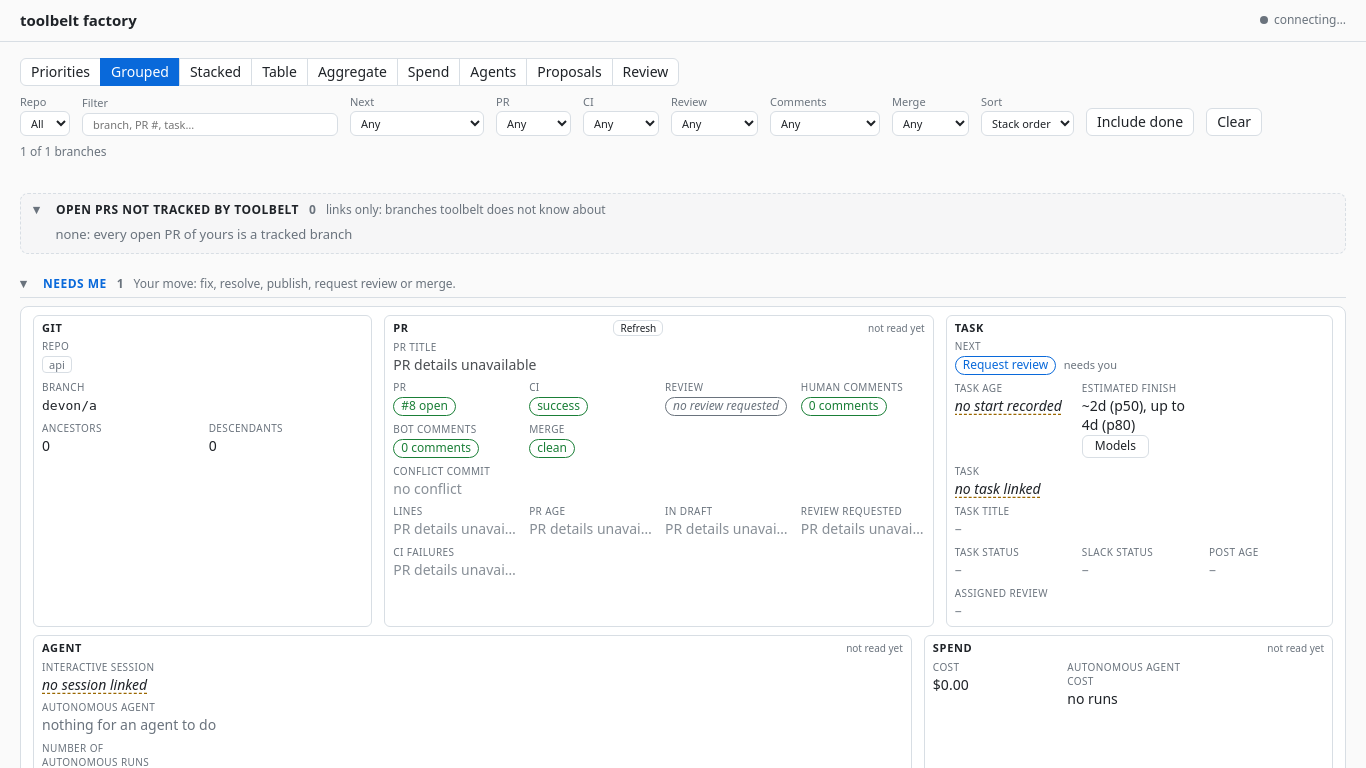
Test: the estimate popup › shows every model side by side with the champion marked, what each learned, the parent wait and similar tasks
Click the button "Models".
click(1115, 446)  # box [1082, 435, 1149, 458]
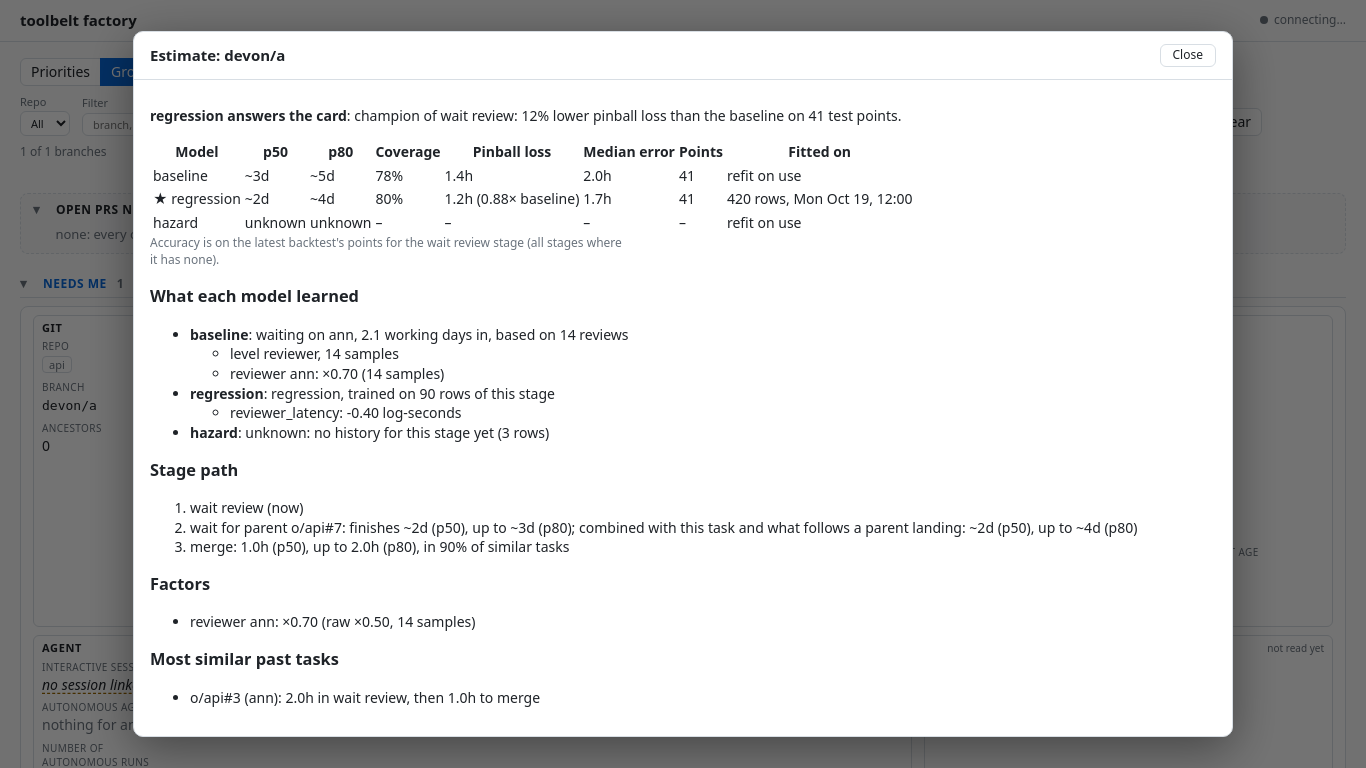
Check: the table named "Models" is shown, box [150, 139, 915, 236]
Check: the row "baseline ~3d ~5d 78% 1.4h 2.0h 41 refit on use" is shown, box [152, 165, 913, 186]
Check: the row named "regression, trained on 90 rows of this stage" shows "★ regression", box [153, 189, 241, 208]
